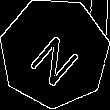N_NE: (23, 20, 86, 85)
